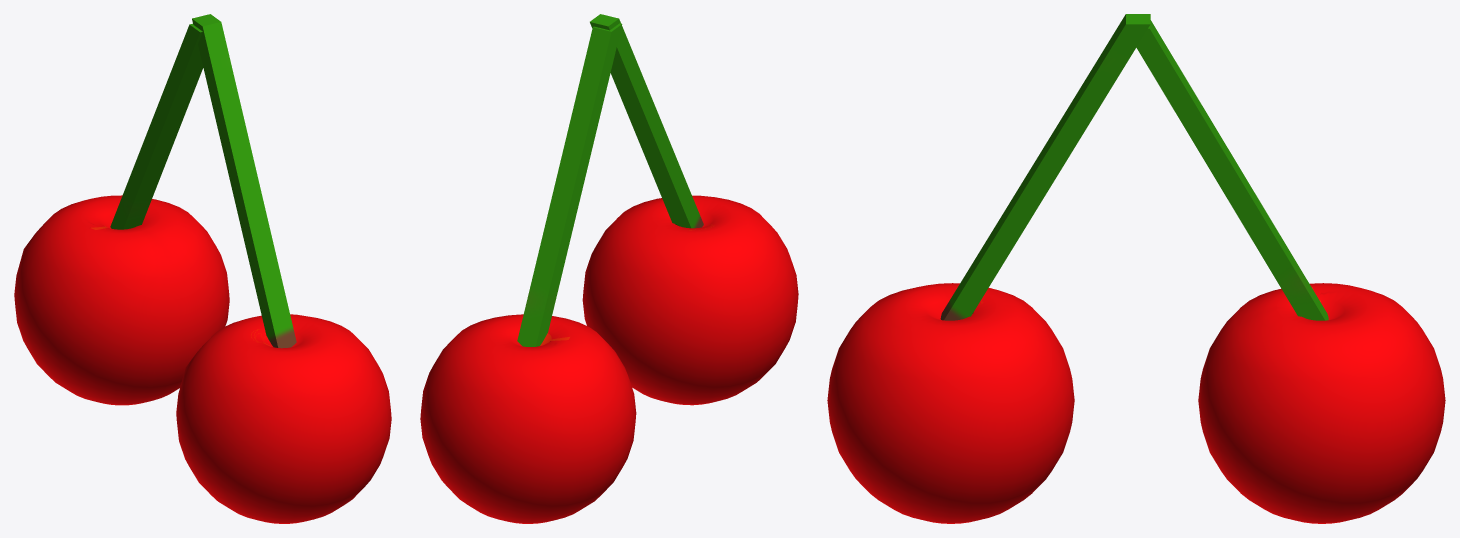
Rendered from cherry.obj.
The picture shows the model from 3 angles, left to right: view 1: azimuth 30°, elevation 25°; view 2: azimuth 150°, elevation 25°; view 3: azimuth 270°, elevation 25°; orthographic projection. The views are drawn at different scales.
Visible parts, largest first — view 1: Cube.002; view 2: Cube.002; view 3: Cube.002.
Part boxes in pixels (box(x1,y1,x2,y2)): Cube.002: box(14, 14, 391, 523); Cube.002: box(420, 14, 798, 523); Cube.002: box(827, 14, 1445, 523).
Size of the model in its own units: 2 by 4.35 by 5.
